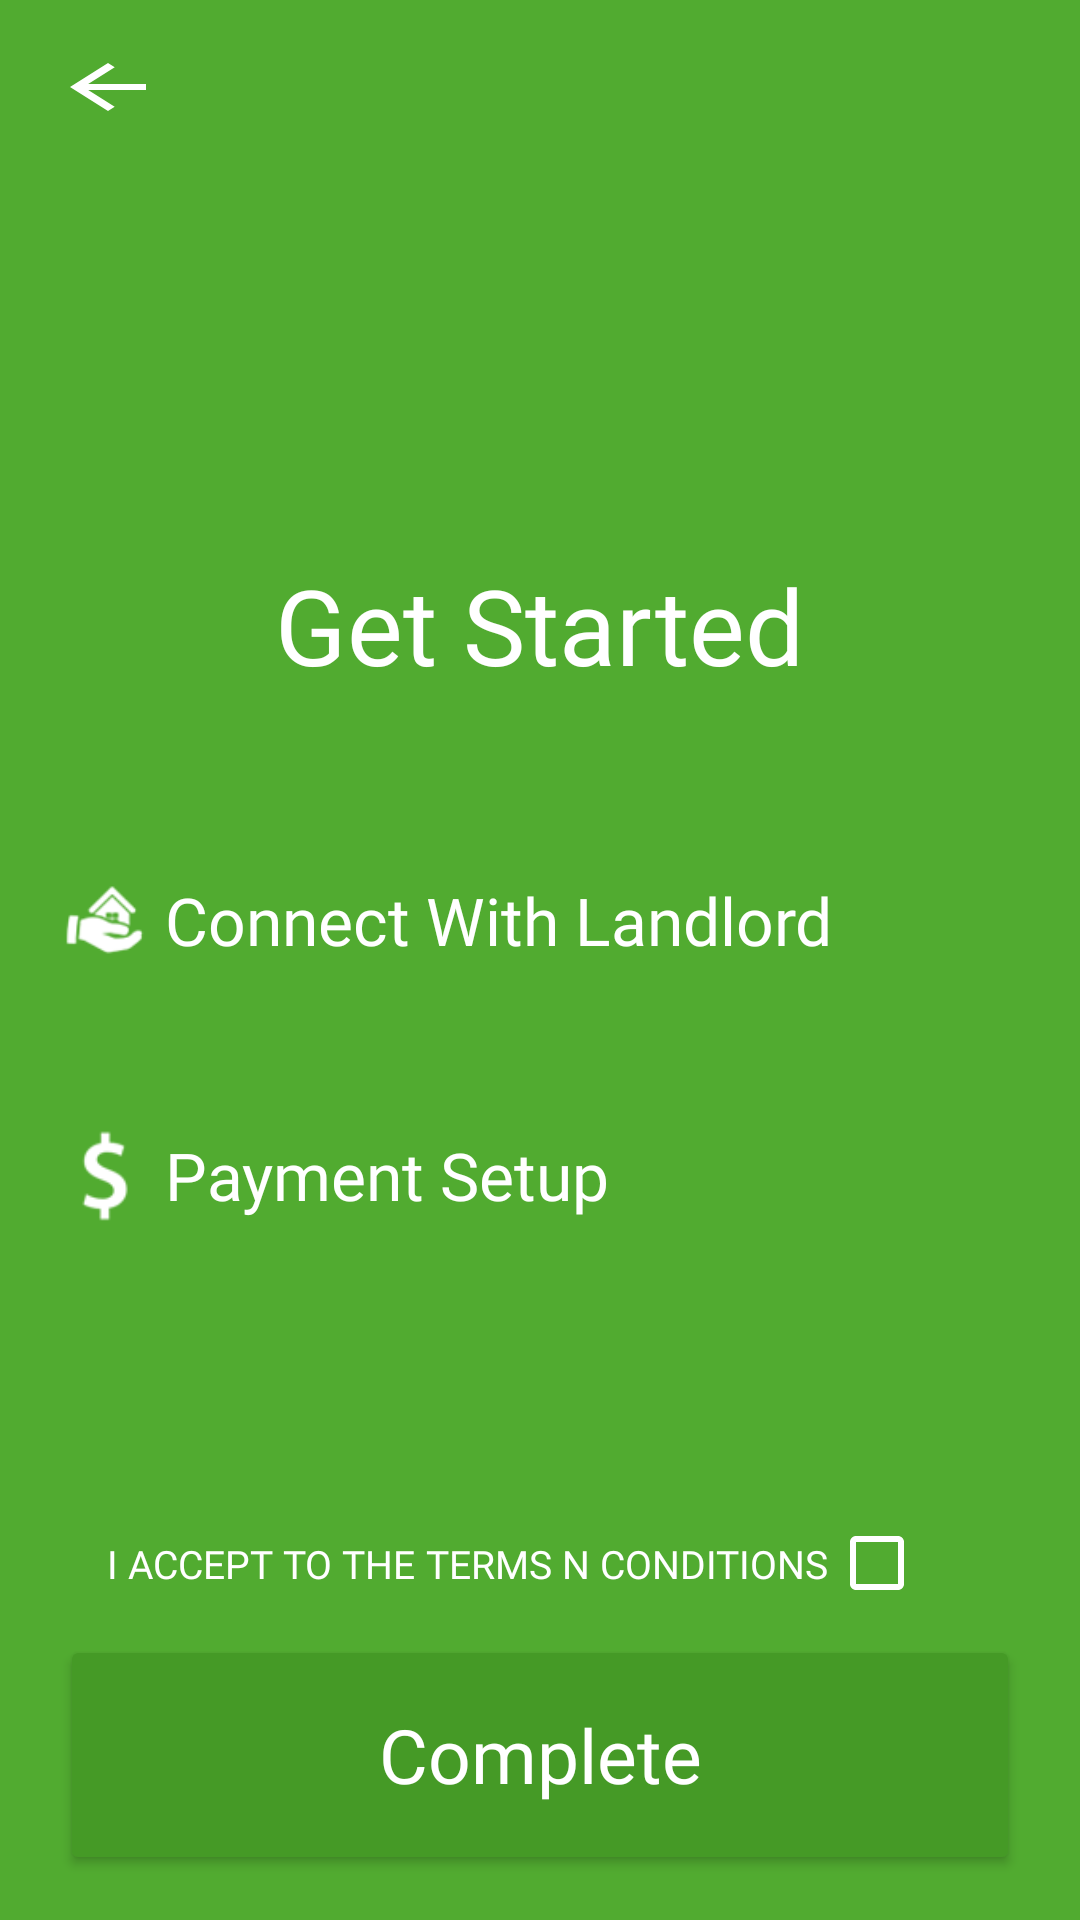

Locate icon controls on the screen. Image size 1080 × 1920, boxes as bbox=[x1, y1, x2, y2].
back arrow: bbox=[70, 63, 146, 111]
dollar: bbox=[82, 1131, 128, 1221]
